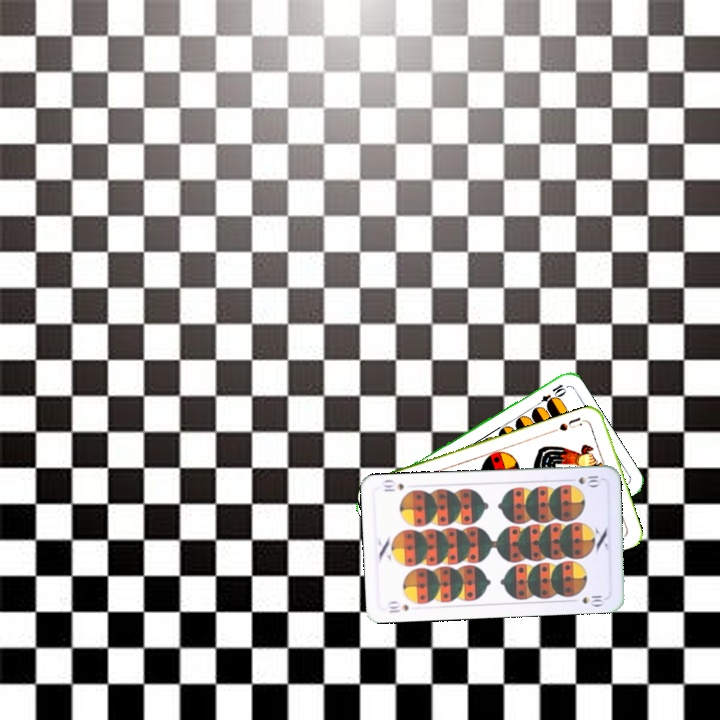E10: (531, 380, 568, 410)
S10: (564, 472, 603, 488), (384, 598, 411, 616)
SU: (555, 413, 589, 433)
